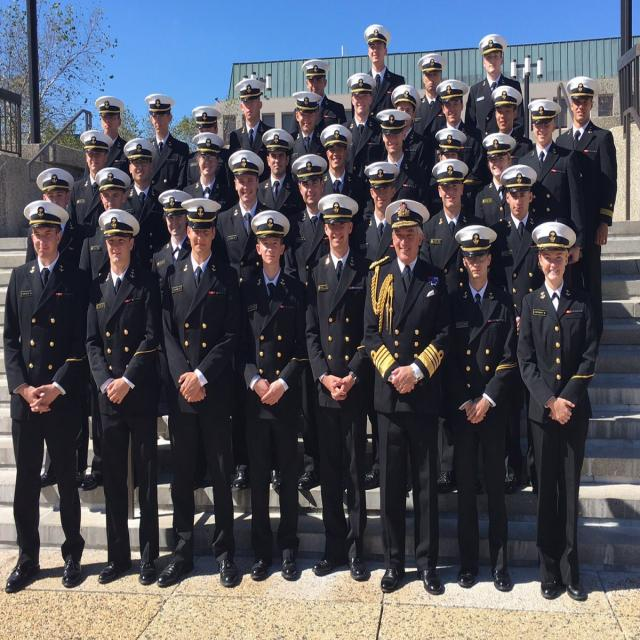body: (152, 196, 245, 588), (362, 198, 452, 596), (3, 198, 89, 596), (514, 218, 602, 604), (84, 207, 164, 590), (228, 208, 309, 585), (441, 222, 520, 592), (304, 192, 375, 583), (215, 149, 282, 492), (24, 166, 91, 490), (488, 161, 546, 497), (553, 75, 619, 357), (290, 151, 332, 493), (517, 97, 586, 266), (77, 165, 150, 313), (419, 156, 490, 304), (362, 107, 432, 225), (421, 78, 486, 197), (119, 138, 172, 273), (318, 122, 369, 258), (463, 32, 525, 142), (340, 70, 387, 206), (421, 125, 486, 222), (150, 186, 195, 308), (142, 92, 190, 198), (229, 78, 277, 184), (352, 161, 398, 268), (66, 128, 114, 230), (254, 127, 307, 219), (182, 130, 240, 214), (289, 59, 348, 140), (362, 22, 408, 118), (472, 131, 518, 227), (187, 104, 236, 192), (490, 83, 535, 168), (390, 84, 429, 172), (411, 52, 448, 141), (286, 88, 328, 166), (94, 93, 130, 173)
